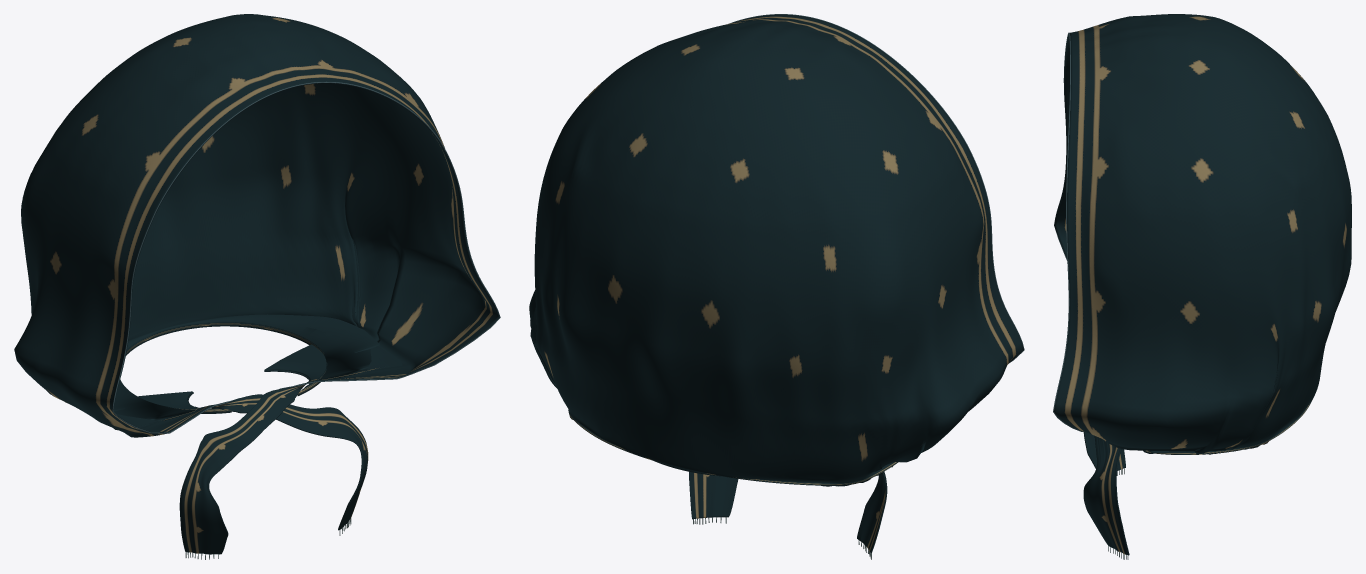
File: Feminine-straight-open-pashmina249-headgear.glb
3 renders of one model, left to right at view 1: azimuth 30°, elevation 25°; view 2: azimuth 150°, elevation 25°; view 3: azimuth 270°, elevation 25°, orthographic. The views are drawn at different scales.
Visible parts, largest first — view 1: 226 headgear / Headwear / continuous woven pashmina239, 226 headgear / Headwear / face edge239; view 2: 226 headgear / Headwear / continuous woven pashmina239, 226 headgear / Headwear / face edge239; view 3: 226 headgear / Headwear / continuous woven pashmina239, 226 headgear / Headwear / face edge239.
Boxes of the visible parts, left/top/right/bottom form: 226 headgear / Headwear / continuous woven pashmina239: left=14, top=14, right=499, bottom=554; 226 headgear / Headwear / face edge239: left=112, top=81, right=500, bottom=433; 226 headgear / Headwear / continuous woven pashmina239: left=529, top=14, right=1023, bottom=553; 226 headgear / Headwear / face edge239: left=728, top=14, right=1024, bottom=363; 226 headgear / Headwear / continuous woven pashmina239: left=1054, top=14, right=1351, bottom=555; 226 headgear / Headwear / face edge239: left=1053, top=32, right=1084, bottom=431.
Size of the model in its own units: 1.25 by 1.41 by 0.7794.
3 materials, 1 textured.
